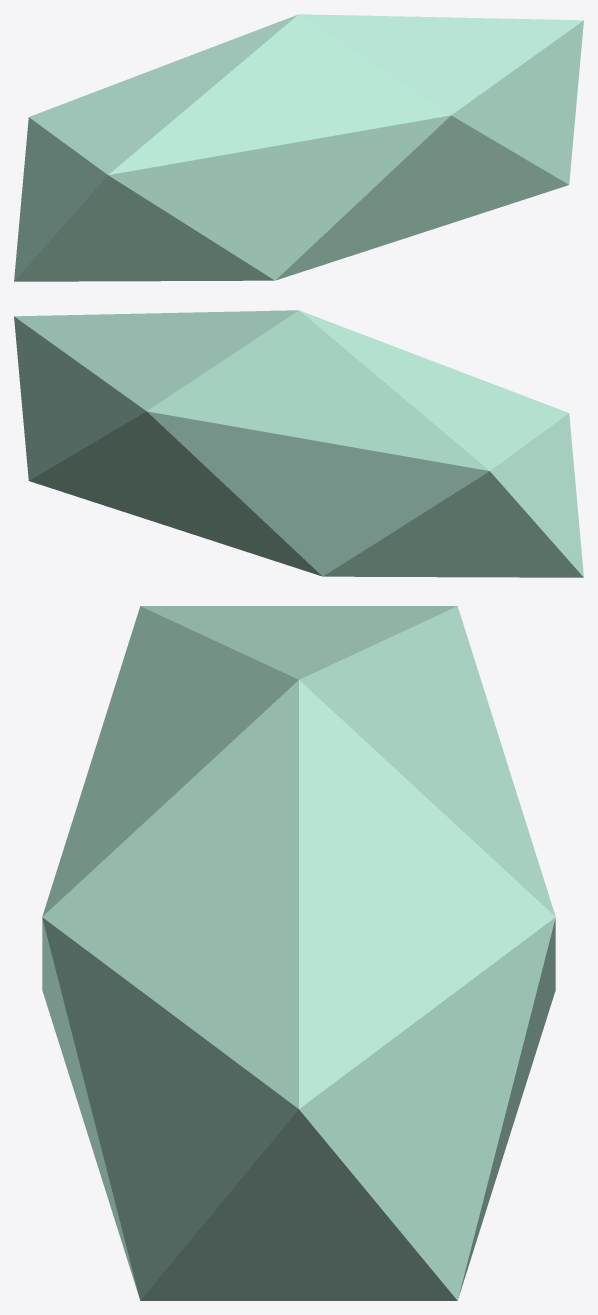
File: Bosje 2 fixed.fbx
3 views of the same model, one above another, from view 1: azimuth 30°, elevation 25°; view 2: azimuth 150°, elevation 25°; view 3: azimuth 270°, elevation 25° (orthographic). The views are drawn at different scales.
Visible parts, largest first — view 1: Bosje 2; view 2: Bosje 2; view 3: Bosje 2.
Boxes of the visible parts, x1,y1,x2,y2 form: Bosje 2: [14, 14, 583, 281]; Bosje 2: [14, 310, 583, 577]; Bosje 2: [42, 606, 555, 1300].
Size of the model in its own units: 436 by 152 by 170.
